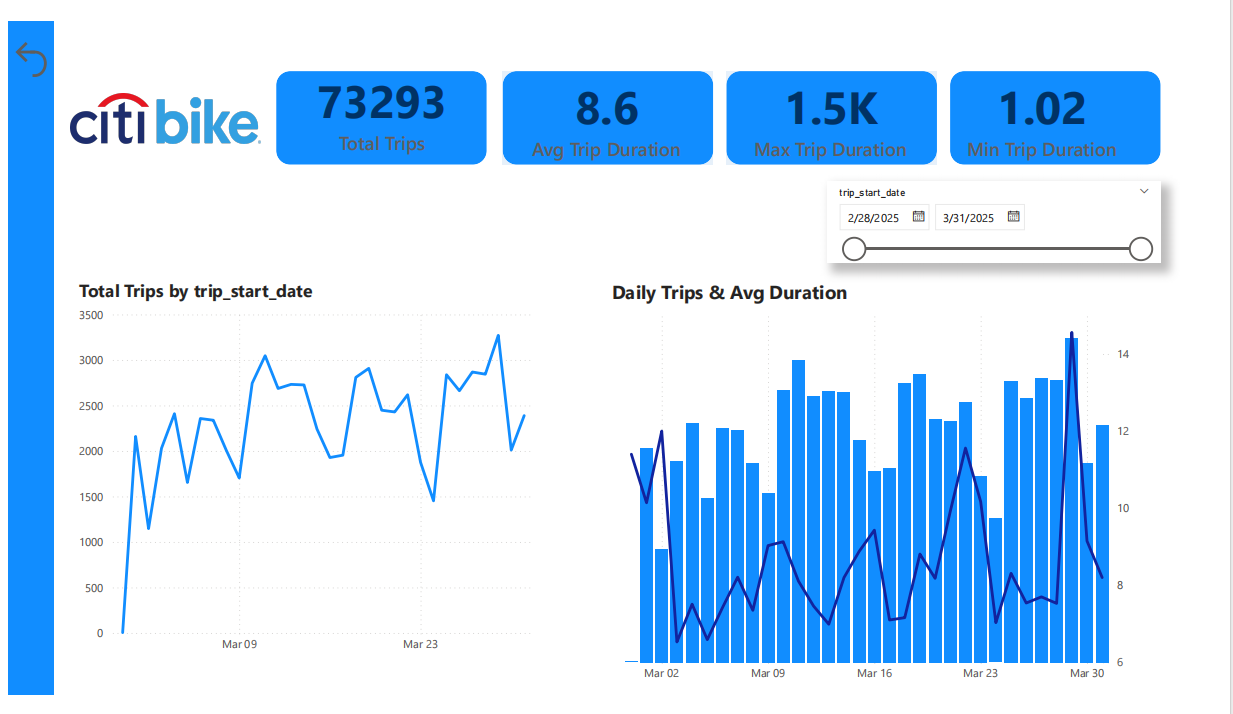

Layout of this report page (visuals, bound fields, positions):
{"tool":"powerbi","page":{"name":"Daily Ride Summary dashboard","canvas":[1280,720],"ordinal":0},"visuals":[{"type":"image","box":[61.1,34.7,212.5,136.1],"z":0},{"type":"shape","box":[766.7,52.8,225,100],"z":1000},{"type":"shape","box":[1005.6,52.8,225,100],"z":2000},{"type":"shape","box":[286.1,52.8,225,100],"z":3000},{"type":"shape","box":[527.8,52.8,225,100],"z":4000},{"type":"shape","box":[0,0,48.6,719.4],"z":5000},{"type":"card","fields":{"Values":["Measure values.Total Trips"]},"box":[291.7,40.3,215.3,112.5],"z":6000},{"type":"card","fields":{"Values":["Measure values.Avg Trip Duration"]},"box":[540.3,52.8,198.6,100],"z":7000},{"type":"card","fields":{"Values":["Measure values.Max Trip Duration"]},"box":[779.2,52.8,198.6,100],"z":8000},{"type":"card","fields":{"Values":["Measure values.Min Trip Duration"]},"box":[1005.6,52.8,198.6,100],"z":9000},{"type":"lineChart","fields":{"Y":["Measure values.Total Trips"],"Category":["daily ride summary.trip_start_date.Variation.Date Hierarchy.Year"]},"box":[70.8,273.6,504.2,409.7],"z":10000},{"type":"lineClusteredColumnComboChart","title":"Daily Trips & Avg Duration","fields":{"Y":["Measure values.Total Trips"],"Y2":["Measure values.Avg Trip Duration"],"Category":["daily ride summary.trip_start_date.Variation.Date Hierarchy.Year"]},"box":[640.3,273.6,563.9,441.7],"z":11000},{"type":"slicer","fields":{"Values":["daily ride summary.trip_start_date"]},"box":[875,170.8,355.6,87.5],"z":12000},{"type":"actionButton","box":[0,15.3,48.6,50],"z":13000}]}

Visuals, with their boxes on the page's 1280x720 design canvas (x1, y1, x2, y2). These are canvas units, not pixel positions in the 1233x714 screenshot, which may show the page scaled, cropped or inside an application window:
image: bbox=(61, 35, 274, 171)
shape: bbox=(767, 53, 992, 153)
shape: bbox=(1006, 53, 1231, 153)
shape: bbox=(286, 53, 511, 153)
shape: bbox=(528, 53, 753, 153)
shape: bbox=(0, 0, 49, 719)
card - Measure values.Total Trips: bbox=(292, 40, 507, 153)
card - Measure values.Avg Trip Duration: bbox=(540, 53, 739, 153)
card - Measure values.Max Trip Duration: bbox=(779, 53, 978, 153)
card - Measure values.Min Trip Duration: bbox=(1006, 53, 1204, 153)
lineChart - Measure values.Total Trips x daily ride summary.trip_start_date.Variation.Date Hierarchy.Year: bbox=(71, 274, 575, 683)
"Daily Trips & Avg Duration" lineClusteredColumnComboChart: bbox=(640, 274, 1204, 715)
slicer - daily ride summary.trip_start_date: bbox=(875, 171, 1231, 258)
actionButton: bbox=(0, 15, 49, 65)
